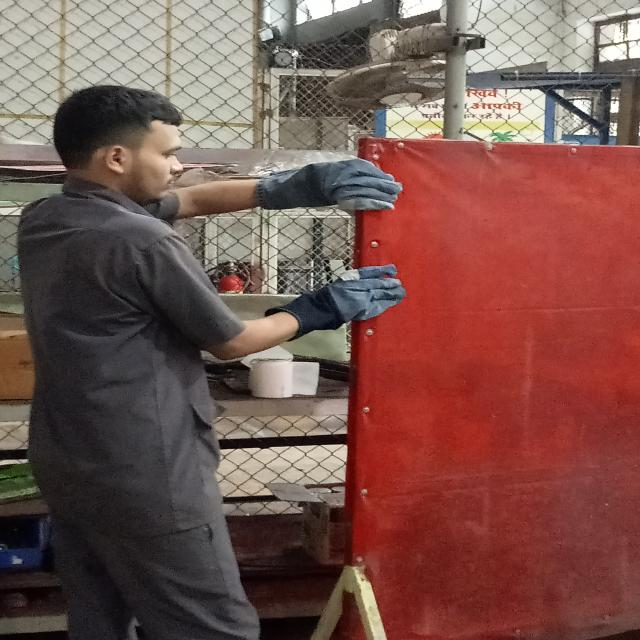Gloves-Detection: (260, 260, 413, 334), (261, 147, 386, 214)
